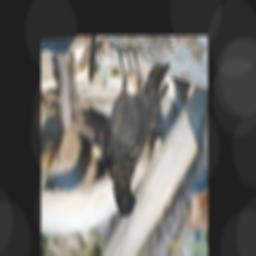Crow: (102, 42, 171, 219)
